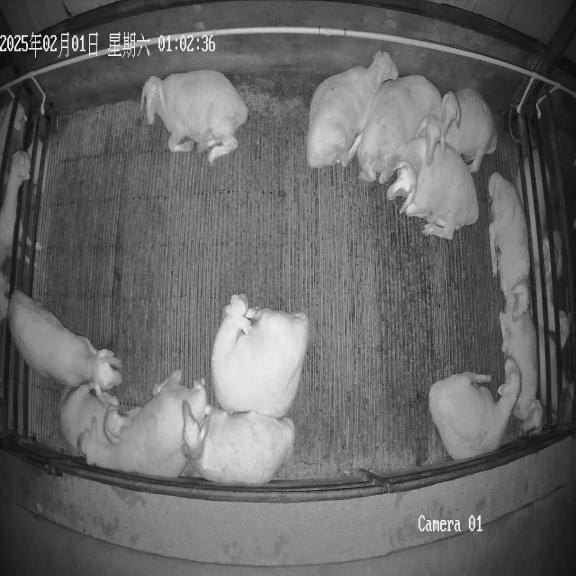lying: (78, 371, 209, 478), (211, 294, 309, 417), (306, 51, 398, 168), (349, 75, 444, 184), (141, 70, 248, 163), (386, 137, 479, 239), (429, 360, 521, 460), (182, 406, 295, 484), (488, 172, 530, 316), (499, 294, 542, 431), (59, 383, 140, 455), (441, 89, 497, 172)
stand: (8, 290, 122, 399)
